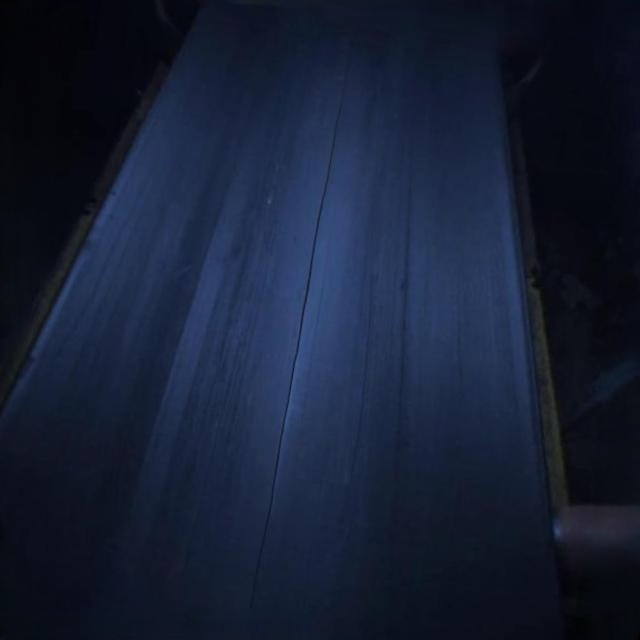Tear: (237, 34, 361, 640)
